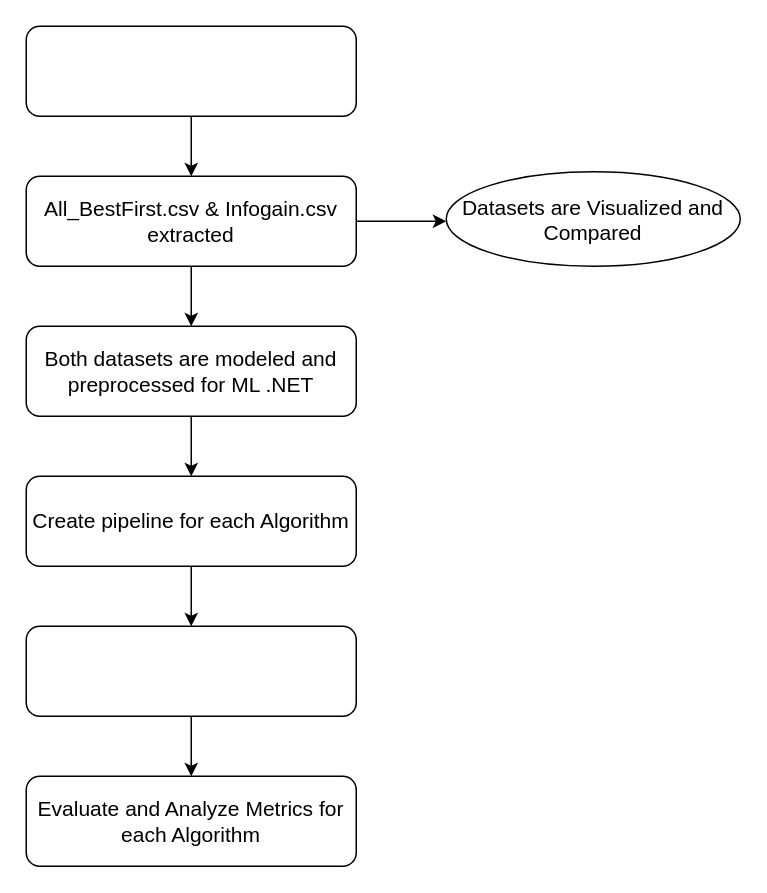
Some shapes in this 767 by 893 pixel diagram are drawn without their labels. Here are the shapes that lost their labels. From the top down, the centre of each, then its label:
At point (190, 70): "URL dataset (ISCX-URL2016)".
At point (190, 670): "Train each Algorithm".
